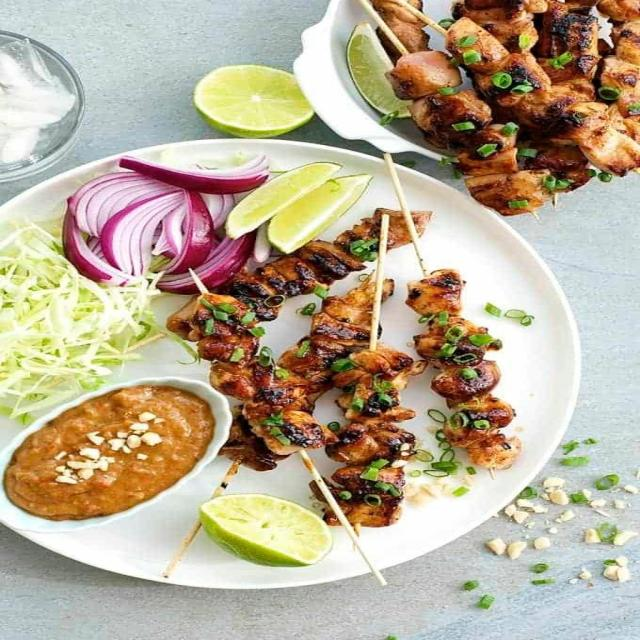Sate: (202, 170, 472, 612), (362, 3, 640, 218)
